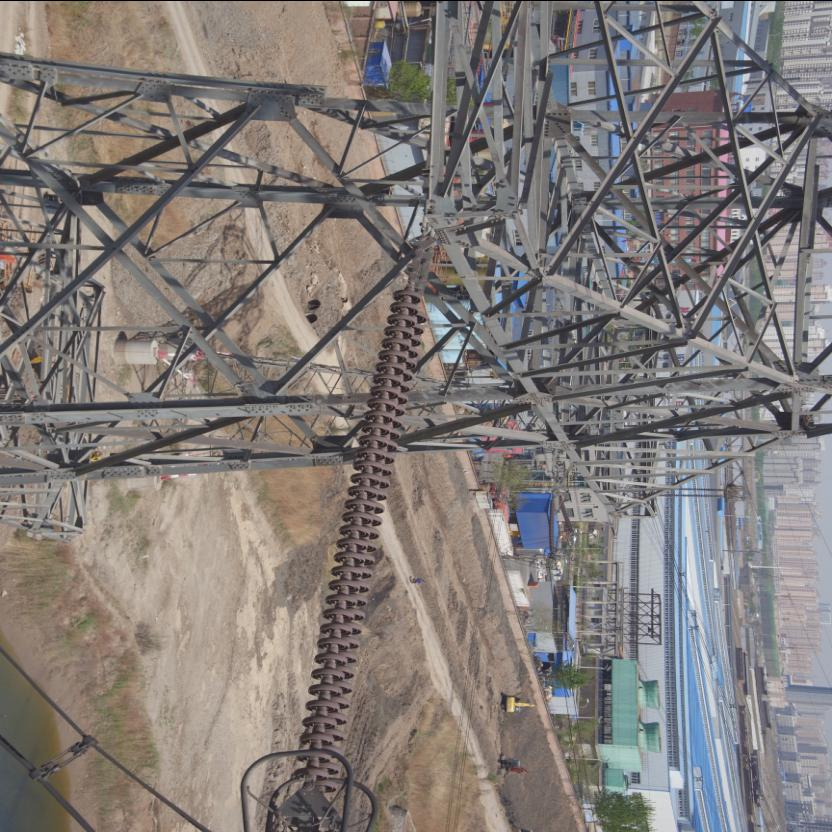insulator: (298, 262, 434, 796)
